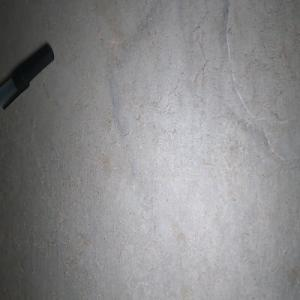Pen: (0, 43, 54, 110)
